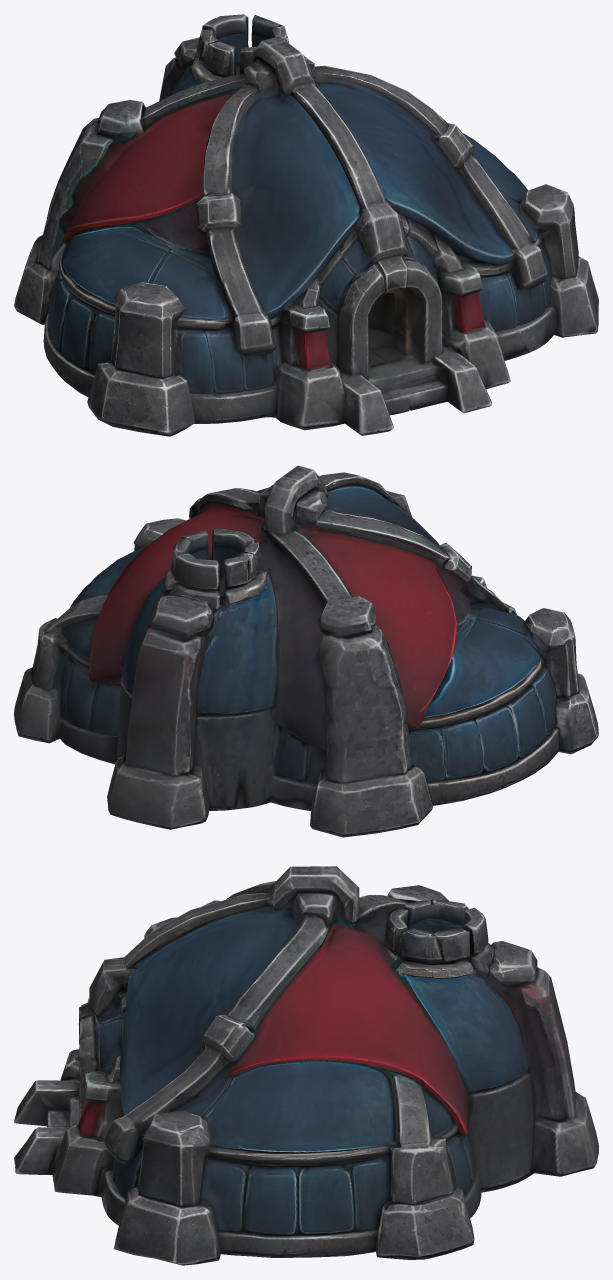
3 views of the same model, one above another, from view 1: azimuth 30°, elevation 25°; view 2: azimuth 150°, elevation 25°; view 3: azimuth 270°, elevation 25° (orthographic). The views are drawn at different scales.
Visible parts, largest first — view 1: beetles-brood-den structure; view 2: beetles-brood-den structure; view 3: beetles-brood-den structure.
Boxes of the visible parts, x1,y1,x2,y2 form: beetles-brood-den structure: (14,14,598,436); beetles-brood-den structure: (14,465,598,837); beetles-brood-den structure: (14,866,598,1265).
Bounding box in the file's own units: 1 × 0.5142 × 1.
1 material, 1 textured.
